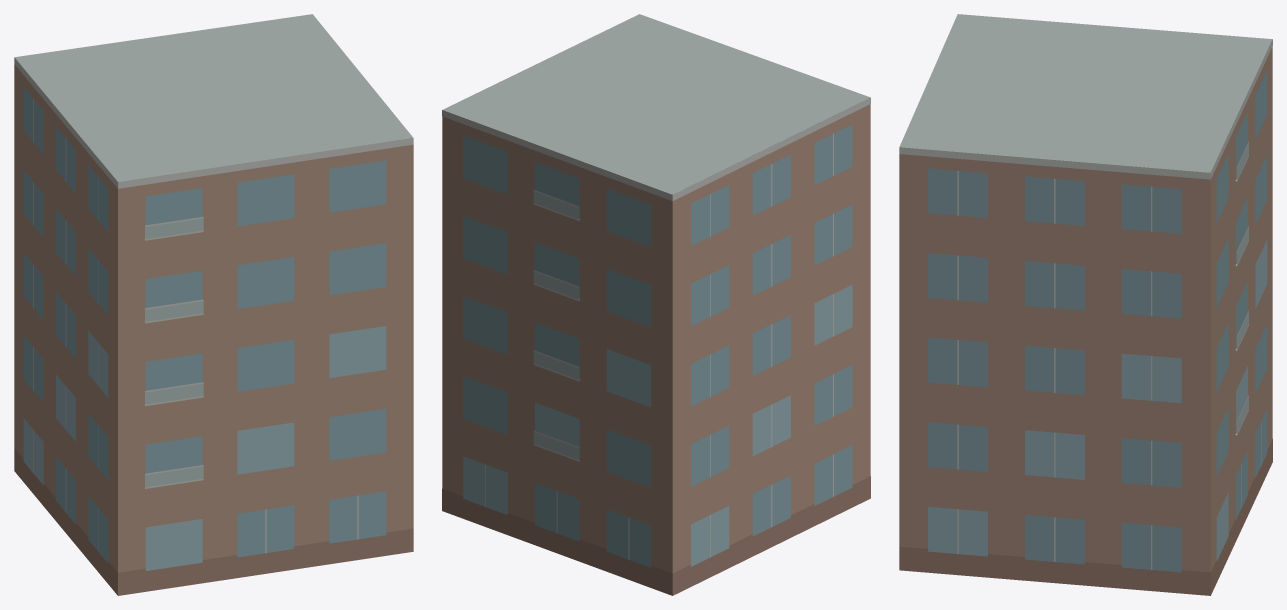
File: survey-upis-32912344.glb
3 views of the same model, side by side, from view 1: azimuth 30°, elevation 25°; view 2: azimuth 150°, elevation 25°; view 3: azimuth 270°, elevation 25° (orthographic). The views are drawn at different scales.
Parts seen in each view (by area): view 1: survey-upis-32912344.tmp; view 2: survey-upis-32912344.tmp; view 3: survey-upis-32912344.tmp.
Boxes of the visible parts, x1=… form: survey-upis-32912344.tmp: x1=14, y1=14, x2=413, y2=595; survey-upis-32912344.tmp: x1=442, y1=14, x2=870, y2=595; survey-upis-32912344.tmp: x1=899, y1=14, x2=1272, y2=595.
Size of the model in its own units: 12.29 by 15.25 by 12.21.
